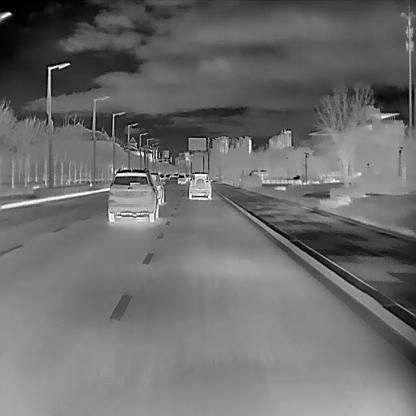bus: (248, 169, 268, 180)
car: (107, 167, 158, 221), (188, 171, 212, 199), (149, 171, 165, 204), (177, 174, 185, 184), (158, 173, 164, 180), (164, 173, 170, 179)
